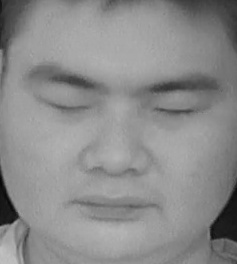blink: (148, 98, 205, 126), (38, 93, 95, 118)
mouth: (70, 180, 160, 228)
